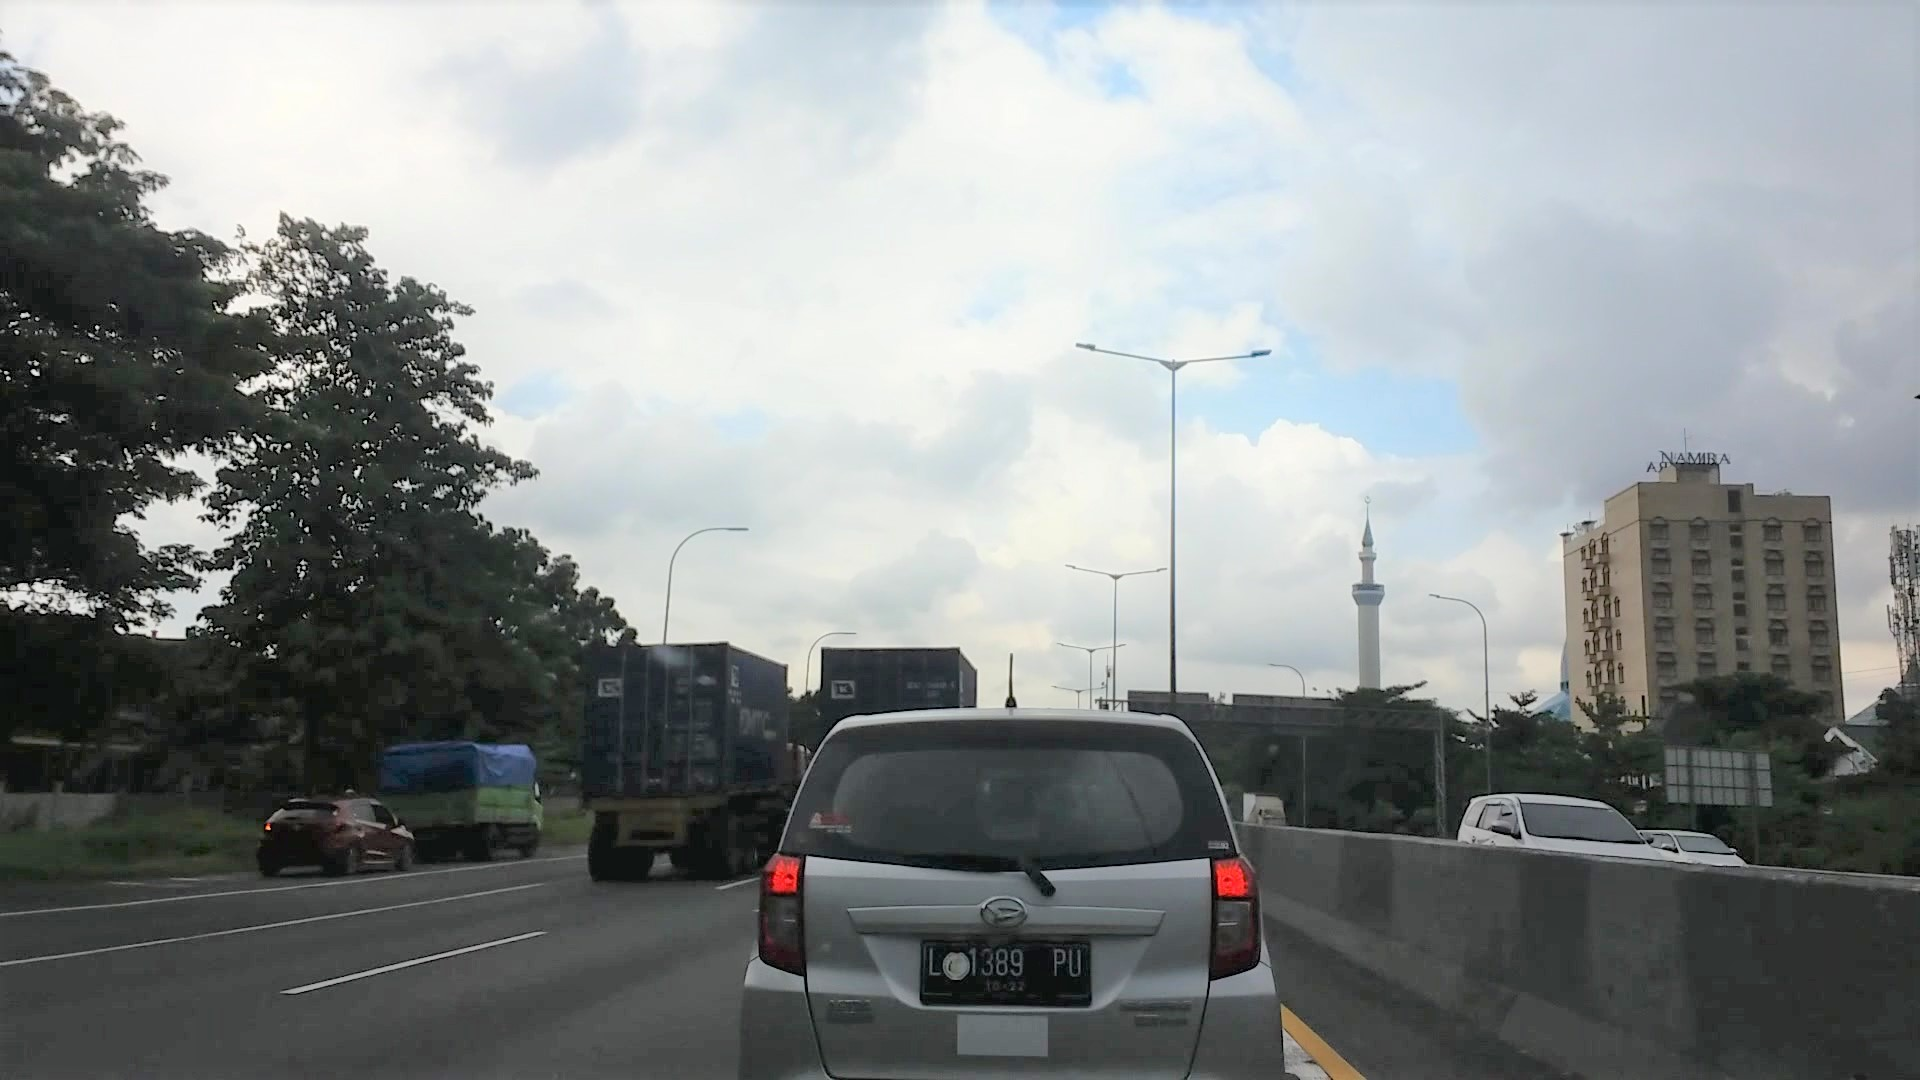plate_positive: (918, 940, 1091, 1005)
